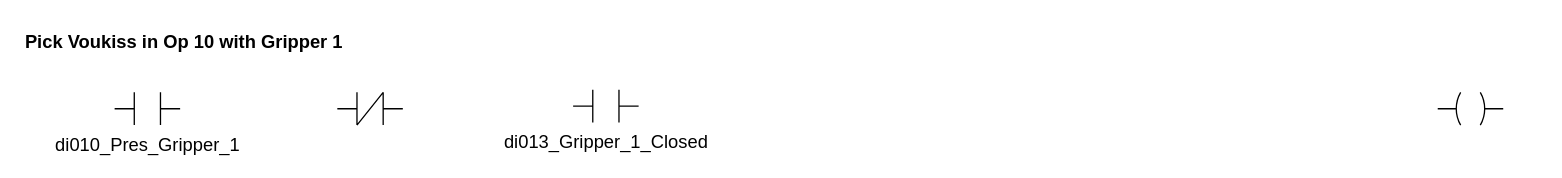
Some shapes in this 1562 by 178 pixel diagram are drawn without their labels. Here are the shapes that lost their labels. From the top down, the box of each, then its label:
(336, 91, 403, 125): di012_Gripper_1_Opened
(1436, 91, 1503, 125): bPer_Nv01_1111
